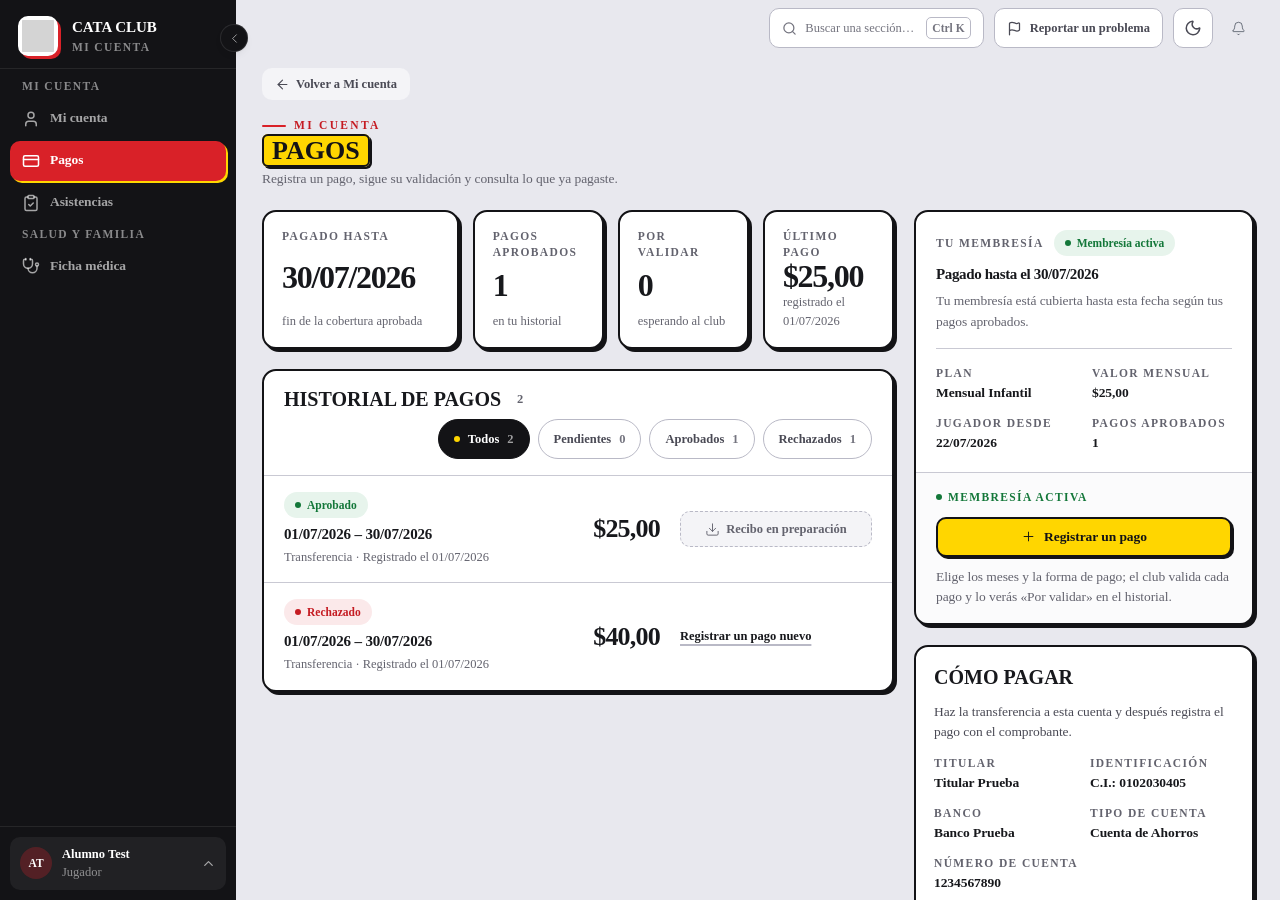
Test: StudentPaymentsPage — the history › filters by status, and marks the active filter with the ball dot rather than red
Expected: the list with test id "student-payments-table" is shown, 264,475 -> 892,690
Expected: the text "$40,00" is shown, 593,622 -> 660,651
Click the button "Aprobados 1" at (702, 439), box 650,419 -> 755,459
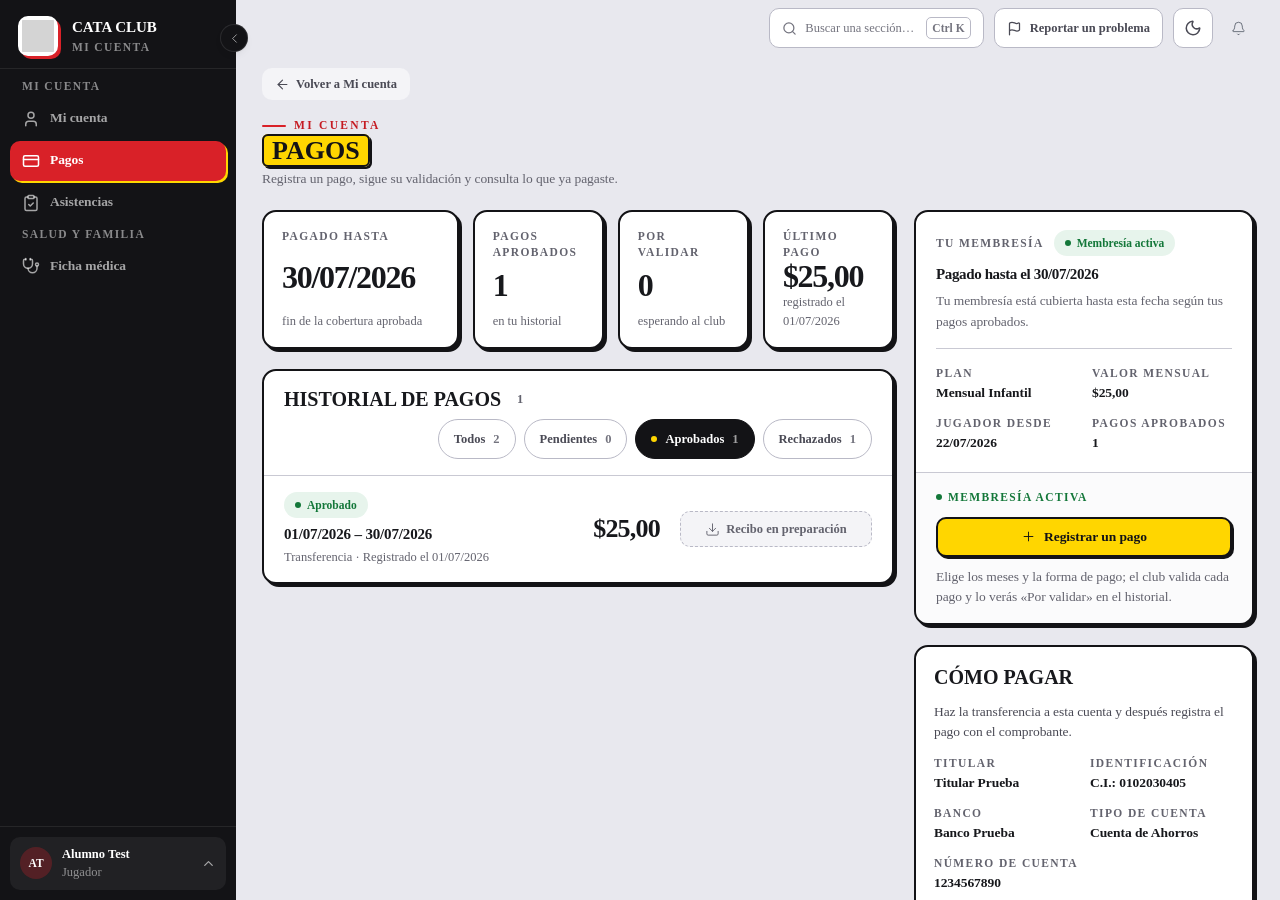
Expected: the number of elements with test id "filterpill-ball-dot" is 1, 652,436 -> 658,442
Result: the text "$40,00" is gone
